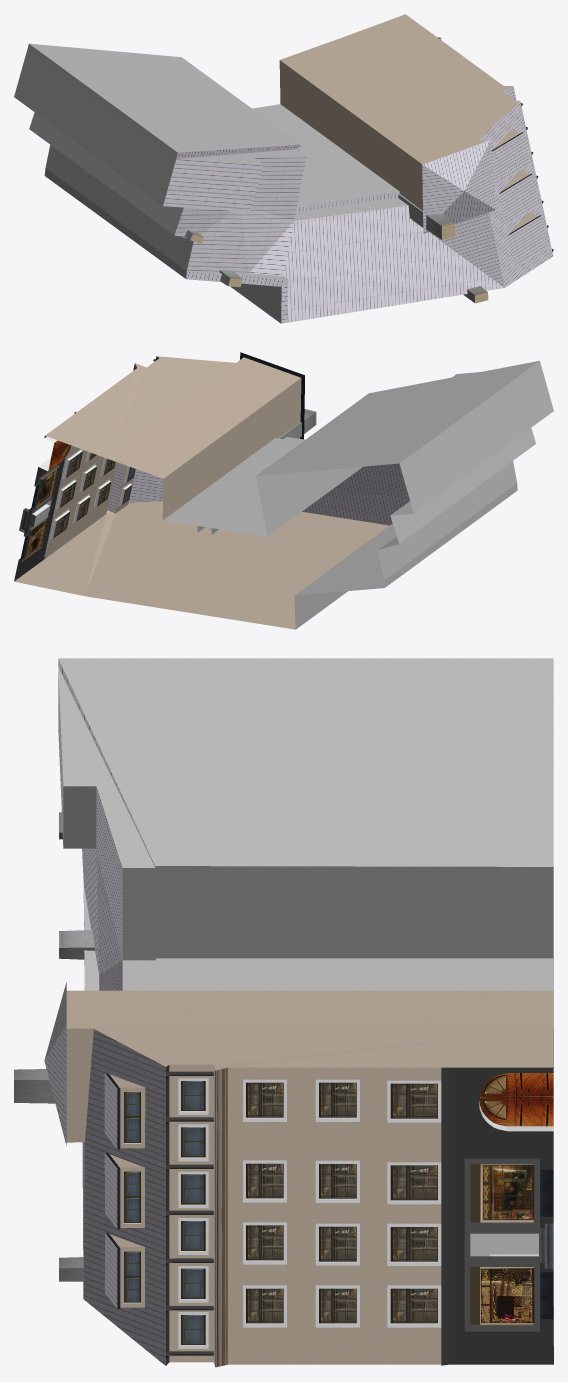
Rendered from Suur-Karia_10.obj.
3 renders of one model, top to bottom at view 1: azimuth 30°, elevation 25°; view 2: azimuth 150°, elevation 25°; view 3: azimuth 270°, elevation 25°, orthographic. The views are drawn at different scales.
Parts seen in each view (by area): view 1: Suur_Karia_10; view 2: Suur_Karia_10; view 3: Suur_Karia_10.
Part boxes in pixels (<box>): Suur_Karia_10: <box>14,14,553,323</box>; Suur_Karia_10: <box>14,352,553,629</box>; Suur_Karia_10: <box>14,658,553,1367</box>.
Bounding box in the file's own units: 37.89 × 19.08 × 24.77.
